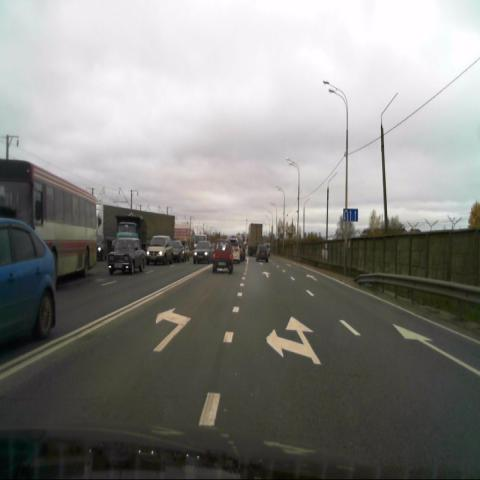5_15_1: (342, 208, 359, 222)
